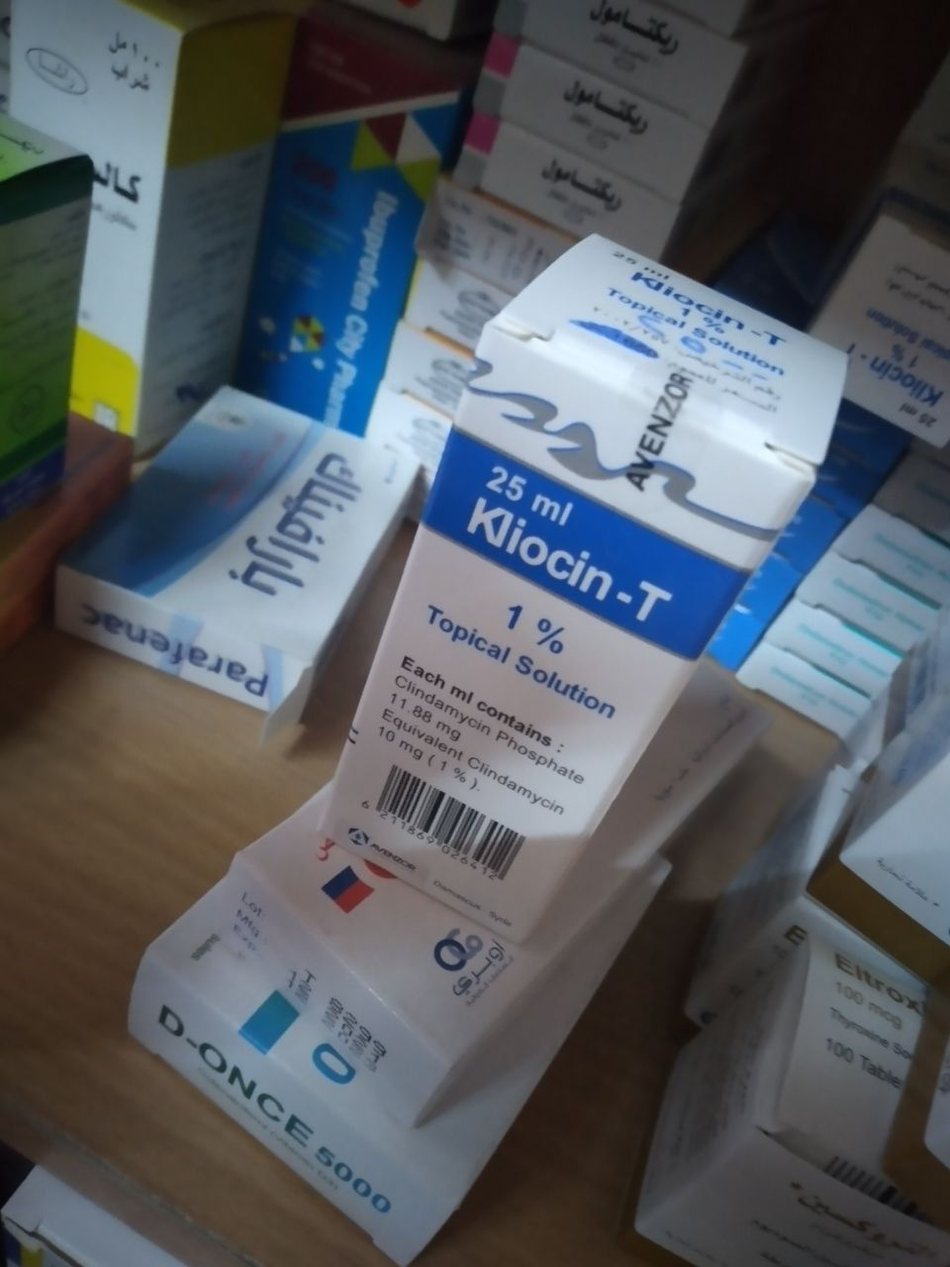Medicine: (333, 254, 858, 901), (73, 403, 435, 726), (148, 940, 482, 1244), (214, 845, 614, 1089)
